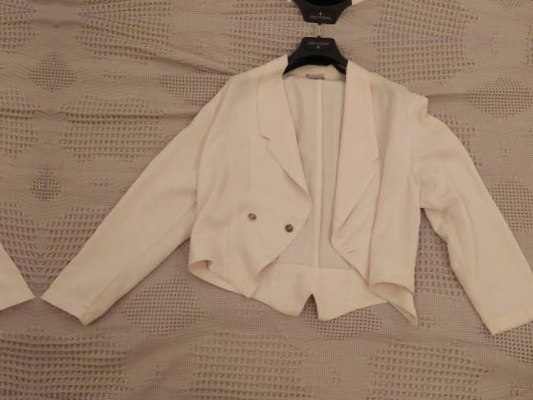Blazer: (34, 37, 533, 374), (0, 2, 55, 340), (58, 0, 533, 22)
